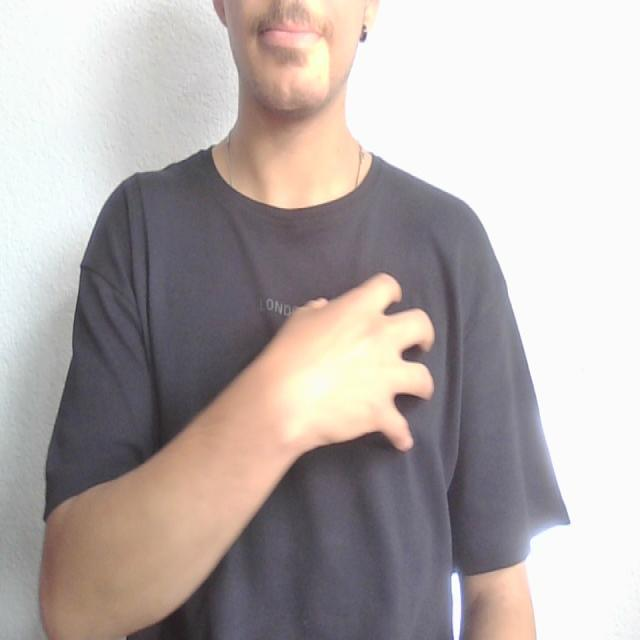Anne: (136, 272, 474, 473)
